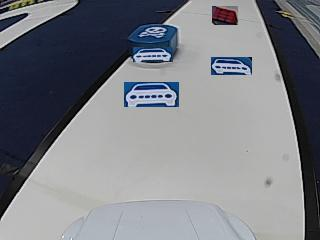danger: (138, 26, 165, 37)
